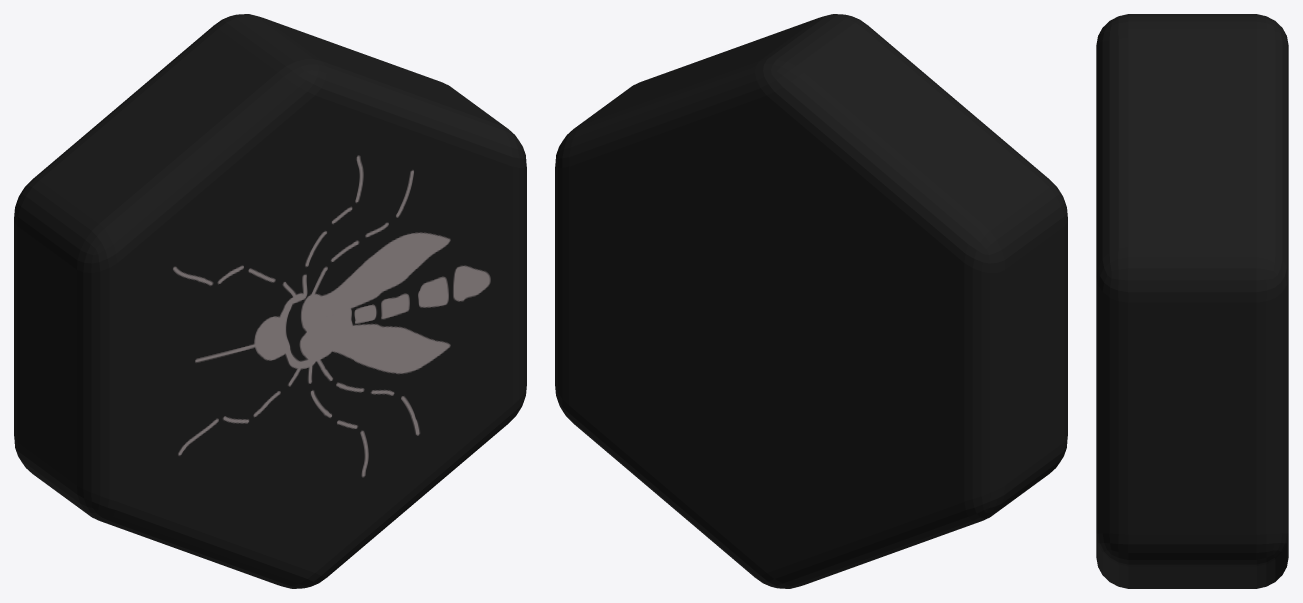
3 renders of one model, left to right at view 1: azimuth 30°, elevation 25°; view 2: azimuth 150°, elevation 25°; view 3: azimuth 270°, elevation 25°, orthographic. The views are drawn at different scales.
Parts seen in each view (by area): view 1: bM; view 2: bM; view 3: bM.
Part boxes in pixels (box(x1,y1,x2,y2)): bM: box(14, 14, 526, 588); bM: box(555, 14, 1067, 588); bM: box(1096, 14, 1288, 588).
Size of the model in its own units: 0.0866 by 0.0973 by 0.03.
1 material, 1 textured.
